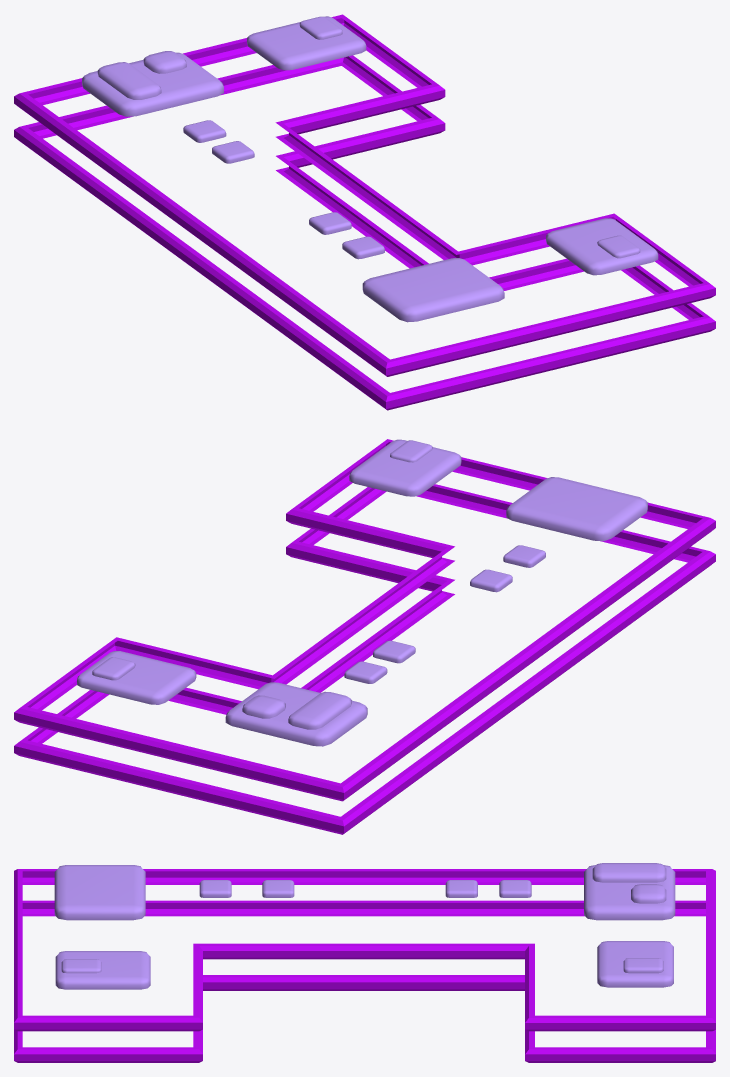
File: wall_deco4.fbx
3 views of the same model, one above another, from view 1: azimuth 30°, elevation 25°; view 2: azimuth 150°, elevation 25°; view 3: azimuth 270°, elevation 25° (orthographic). The views are drawn at different scales.
Parts seen in each view (by area): view 1: wall_deco4; view 2: wall_deco4; view 3: wall_deco4.
Part boxes in pixels (x1,y1,x2,y2): wall_deco4: (14, 14, 715, 410); wall_deco4: (14, 439, 715, 834); wall_deco4: (14, 863, 715, 1062).
Size of the model in its own units: 632 by 148 by 1233.
